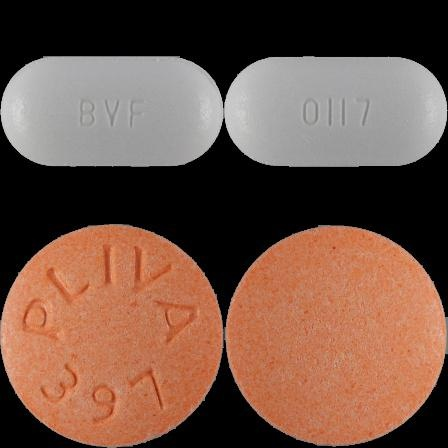43353-123: (0, 0, 224, 224)
